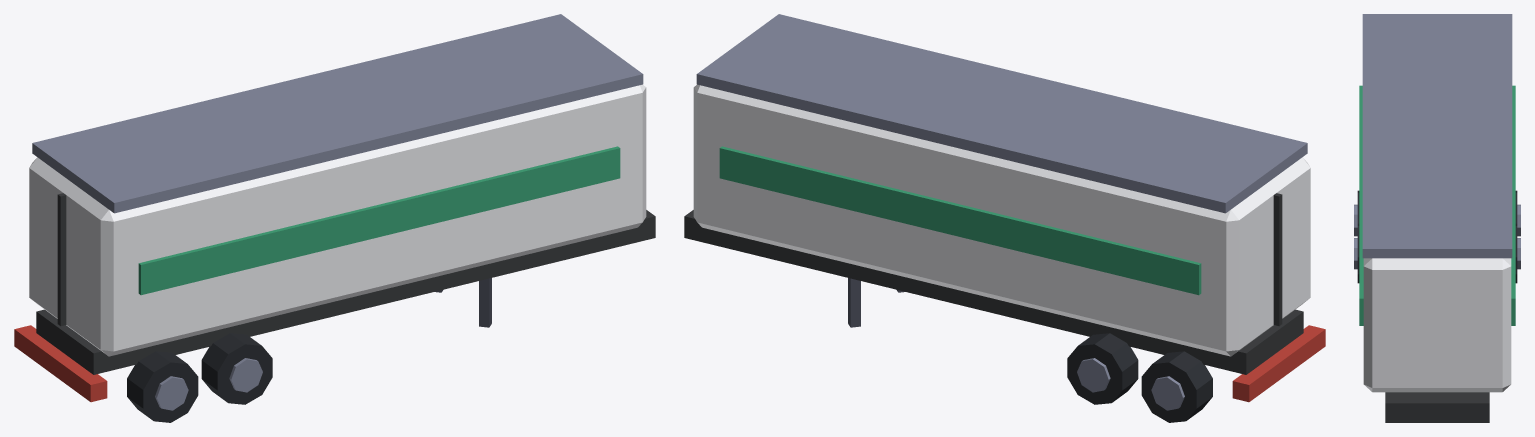
The model's file is semi.trailer-box.glb.
The picture shows the model from 3 angles, left to right: view 1: azimuth 30°, elevation 25°; view 2: azimuth 150°, elevation 25°; view 3: azimuth 270°, elevation 25°; orthographic projection. The views are drawn at different scales.
Parts seen in each view (by area): view 1: model; view 2: model; view 3: model.
Boxes of the visible parts, left/top/right/bottom form: model: left=14, top=14, right=655, bottom=422; model: left=684, top=14, right=1325, bottom=422; model: left=1354, top=14, right=1520, bottom=422.
Size of the model in its own units: 0.695 by 0.267 by 0.192.
1 material, 1 textured.
